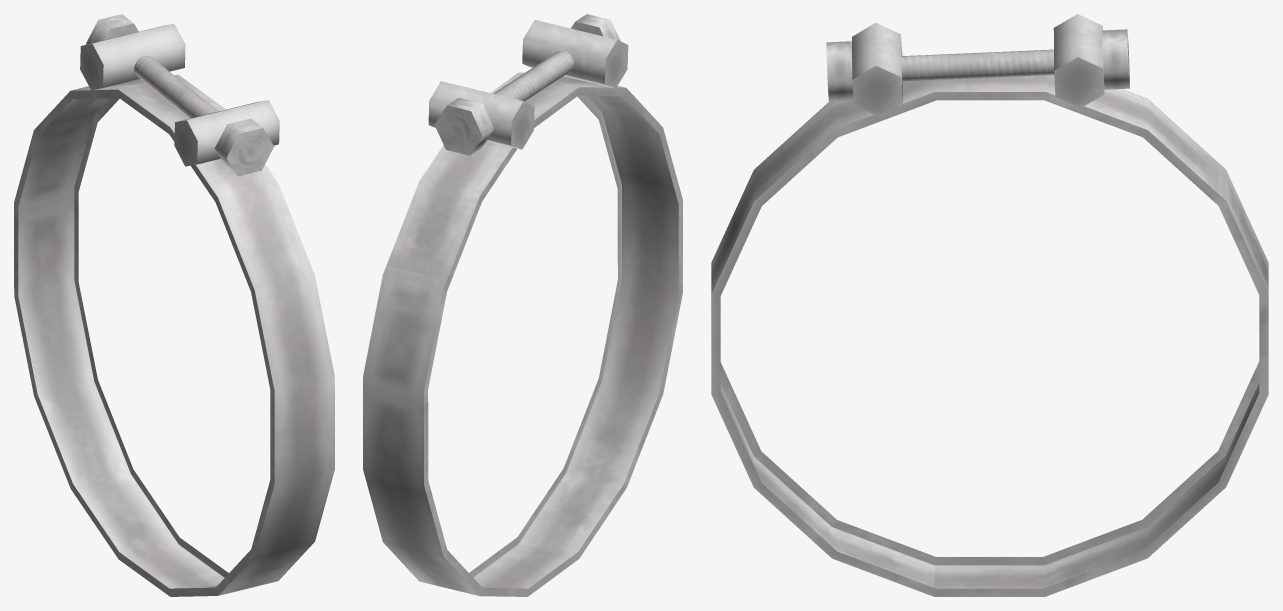
File: SM_Pipes_03m.glb
3 renders of one model, left to right at view 1: azimuth 30°, elevation 25°; view 2: azimuth 150°, elevation 25°; view 3: azimuth 270°, elevation 25°, orthographic. The views are drawn at different scales.
Parts seen in each view (by area): view 1: SM_Pipes_03m; view 2: SM_Pipes_03m; view 3: SM_Pipes_03m.
Part boxes in pixels (x1,y1,x2,y2): SM_Pipes_03m: [14, 14, 334, 596]; SM_Pipes_03m: [363, 14, 682, 596]; SM_Pipes_03m: [711, 14, 1268, 596].
Bounding box in the file's own units: 0.0266 × 0.1559 × 0.1444.
1 material, 1 textured.
